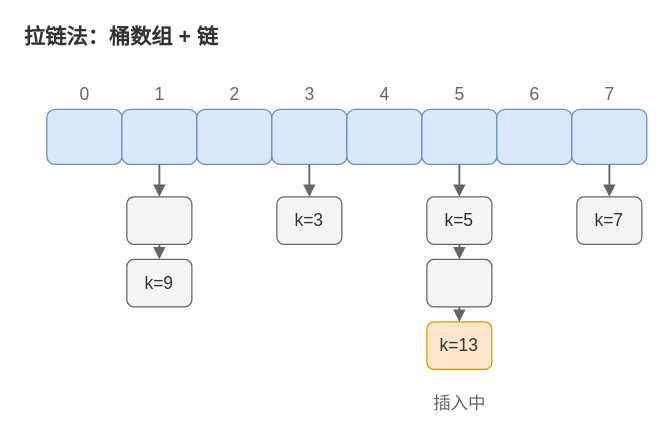
Image size: 669x435. Some labels were removed from this diagram. The centre of each missing label's shape, as x and y in pixels:
k=17: the point at 159,220
k=21: the point at 459,282
